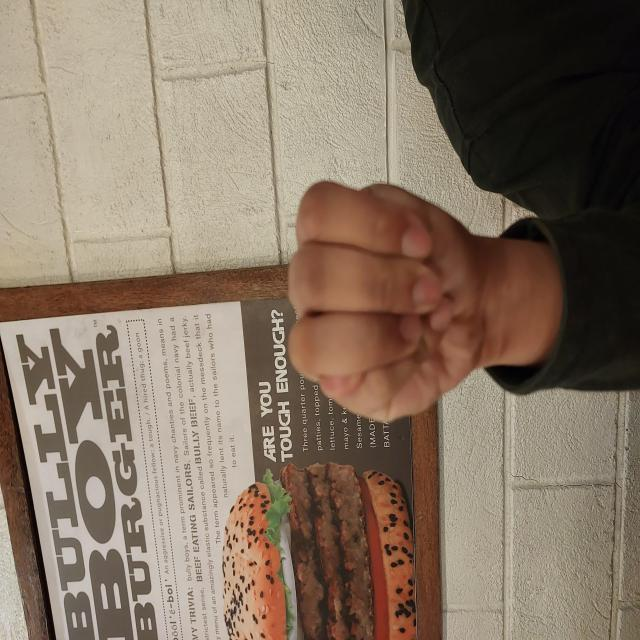M: (218, 288, 462, 486)
